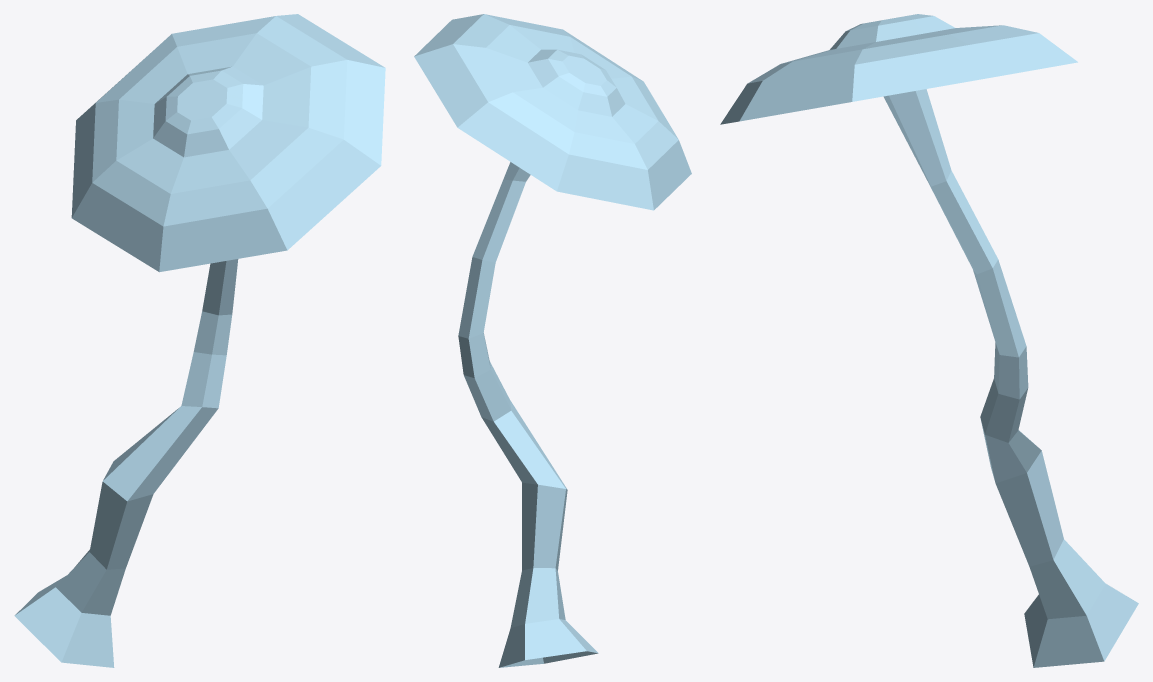
Rendered from Mushrooms_14.fbx.
The picture shows the model from 3 angles, left to right: view 1: azimuth 30°, elevation 25°; view 2: azimuth 150°, elevation 25°; view 3: azimuth 270°, elevation 25°; orthographic projection. The views are drawn at different scales.
Visible parts, largest first — view 1: Mushrooms_14; view 2: Mushrooms_14; view 3: Mushrooms_14.
Boxes of the visible parts, x1,y1,x2,y2 form: Mushrooms_14: (14, 14, 385, 667); Mushrooms_14: (414, 14, 691, 667); Mushrooms_14: (720, 14, 1138, 667).
Bounding box in the file's own units: 0.3793 × 0.4715 × 0.8602.
